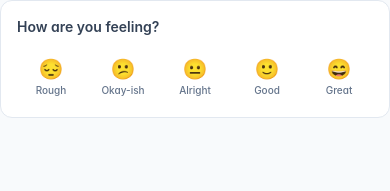
Scenario: FabricMoodCard › shows a save button after mood selection
This screenshot has width=390, height=191.
Click the button "😄 Great". click: (339, 75)
box: [305,49,373,101]
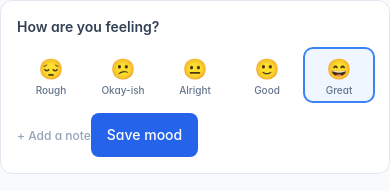
Check: the button "Save mood" is shown, box [91,113,198,157]
